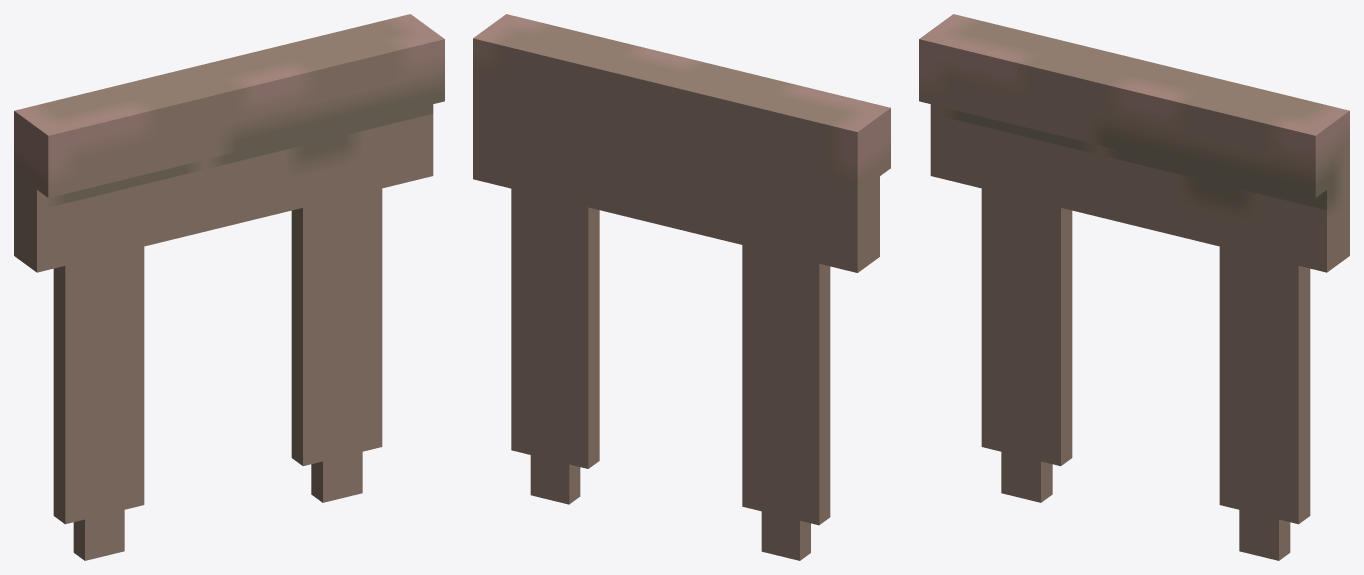
File: Decoration_Small-1.fbx
3 renders of one model, left to right at view 1: azimuth 30°, elevation 25°; view 2: azimuth 150°, elevation 25°; view 3: azimuth 330°, elevation 25°, orthographic. The views are drawn at different scales.
Parts seen in each view (by area): view 1: Decoration_Small-1; view 2: Decoration_Small-1; view 3: Decoration_Small-1.
Boxes of the visible parts, left/top/right/bottom form: Decoration_Small-1: left=14, top=14, right=444, bottom=560; Decoration_Small-1: left=473, top=14, right=890, bottom=560; Decoration_Small-1: left=919, top=14, right=1349, bottom=560.
Size of the model in its own units: 100 by 110 by 15.
